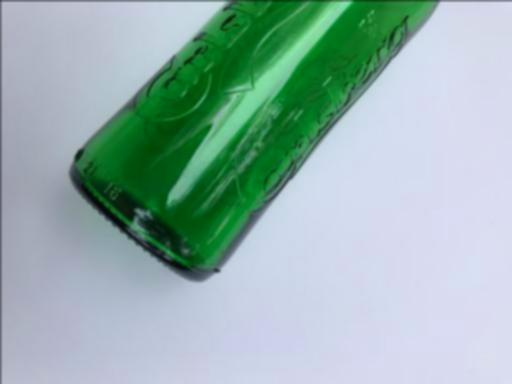alcohol: (67, 1, 451, 284)
glass: (67, 1, 451, 284)
sodocalcique: (67, 1, 451, 284)
